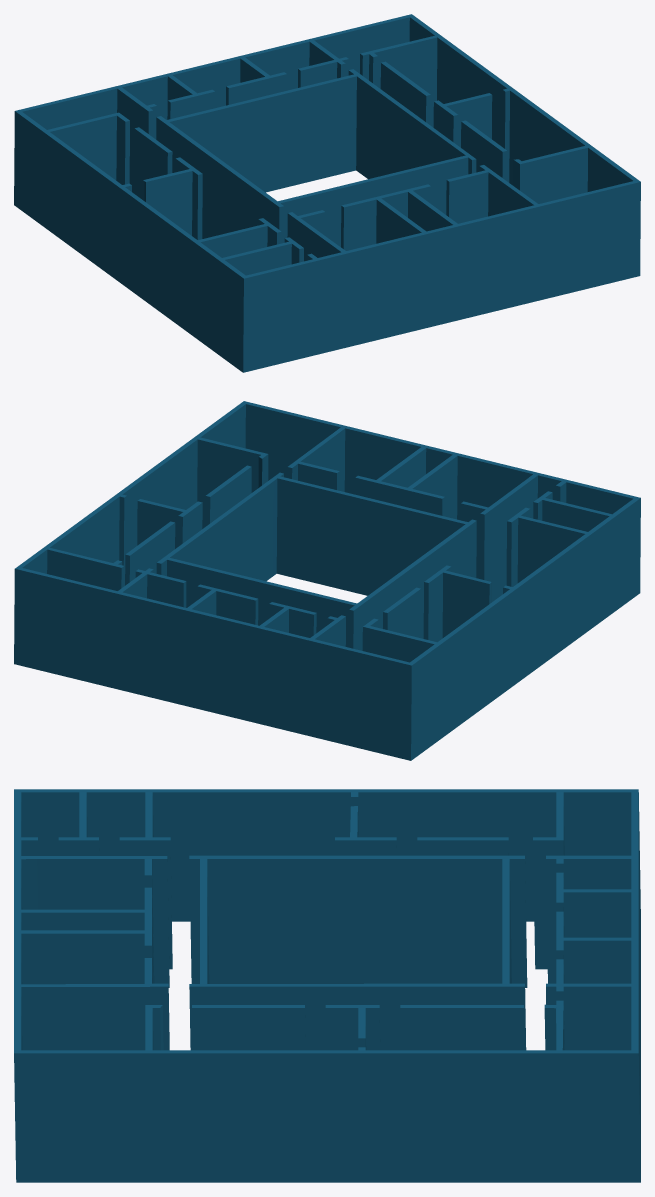
3 renders of one model, top to bottom at view 1: azimuth 30°, elevation 25°; view 2: azimuth 150°, elevation 25°; view 3: azimuth 270°, elevation 25°, orthographic. The views are drawn at different scales.
Parts seen in each view (by area): view 1: 立方体-col; view 2: 立方体-col; view 3: 立方体-col.
Part boxes in pixels (bbox=[...]): 立方体-col: bbox=[14, 14, 640, 372]; 立方体-col: bbox=[14, 401, 640, 760]; 立方体-col: bbox=[14, 789, 640, 1182].
Bounding box in the file's own units: 0.2884 × 0.0658 × 0.2894.
